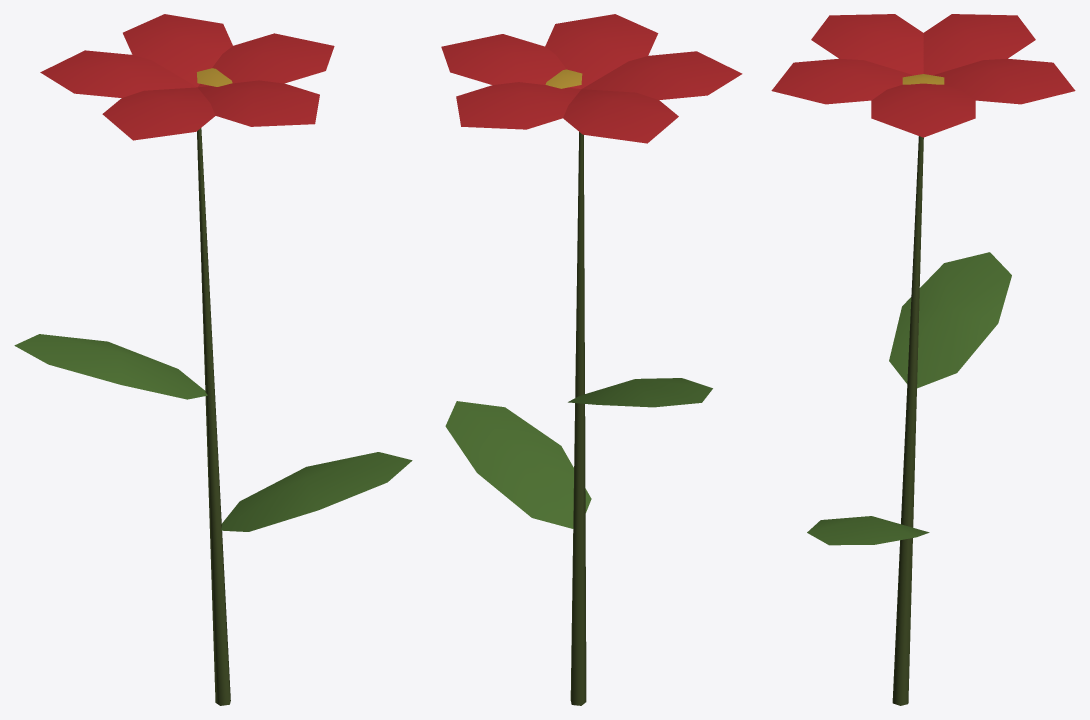
The picture shows the model from 3 angles, left to right: view 1: azimuth 30°, elevation 25°; view 2: azimuth 150°, elevation 25°; view 3: azimuth 270°, elevation 25°; orthographic projection. The views are drawn at different scales.
Visible parts, largest first — view 1: GROUND_FLORA_s_2_0; view 2: GROUND_FLORA_s_2_0; view 3: GROUND_FLORA_s_2_0.
Part boxes in pixels (box(x1,y1,x2,y2)): GROUND_FLORA_s_2_0: box(14, 14, 412, 705); GROUND_FLORA_s_2_0: box(441, 14, 742, 705); GROUND_FLORA_s_2_0: box(771, 14, 1075, 705).
Bounding box in the file's own units: 0.4813 × 0.9067 × 0.3933.
